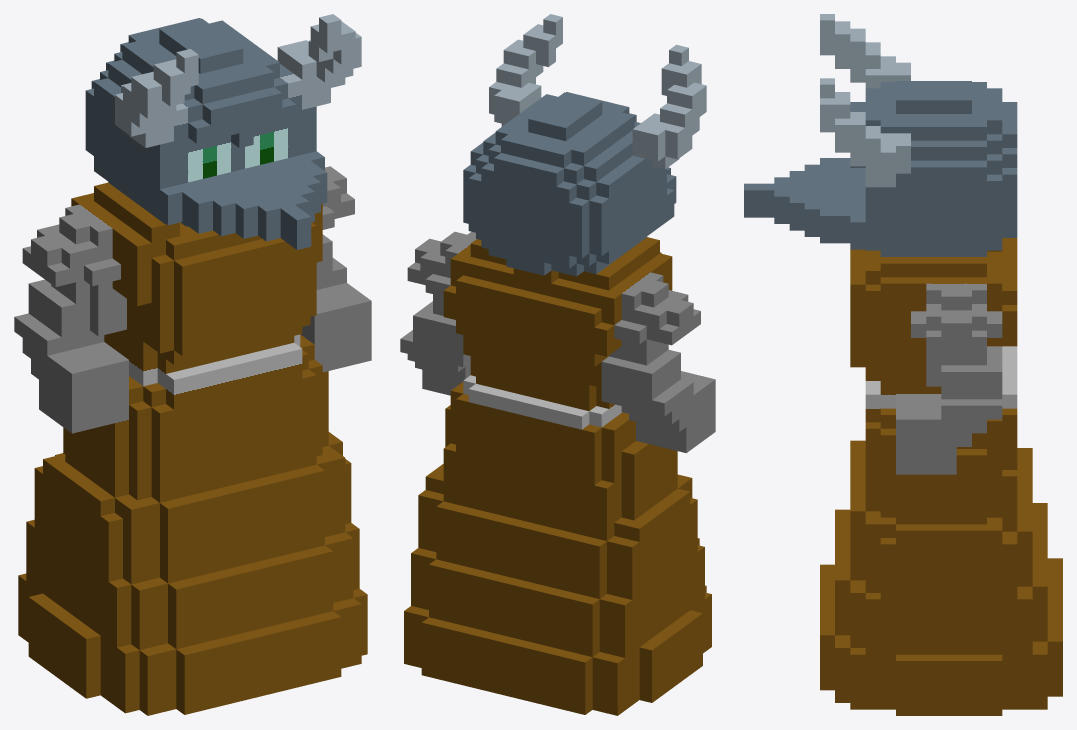
Rendered from Jeff.fbx.
3 renders of one model, left to right at view 1: azimuth 30°, elevation 25°; view 2: azimuth 150°, elevation 25°; view 3: azimuth 270°, elevation 25°, orthographic. The views are drawn at different scales.
Parts seen in each view (by area): view 1: Jeff.Merged; view 2: Jeff.Merged; view 3: Jeff.Merged.
Boxes of the visible parts, left/top/right/bottom form: Jeff.Merged: left=14, top=14, right=371, bottom=715; Jeff.Merged: left=400, top=14, right=715, bottom=715; Jeff.Merged: left=744, top=14, right=1062, bottom=715.
Bounding box in the file's own units: 210 × 440 × 210.
Materials: 1 (1 with a texture image).
